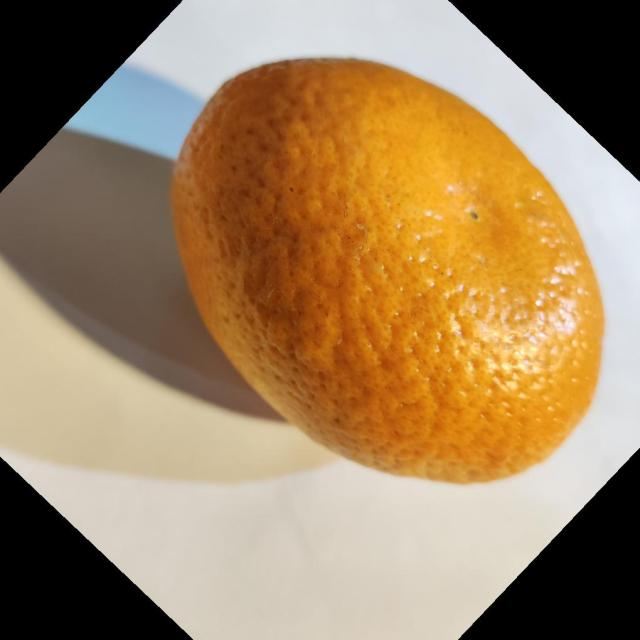fresh orange: (169, 54, 605, 484)
